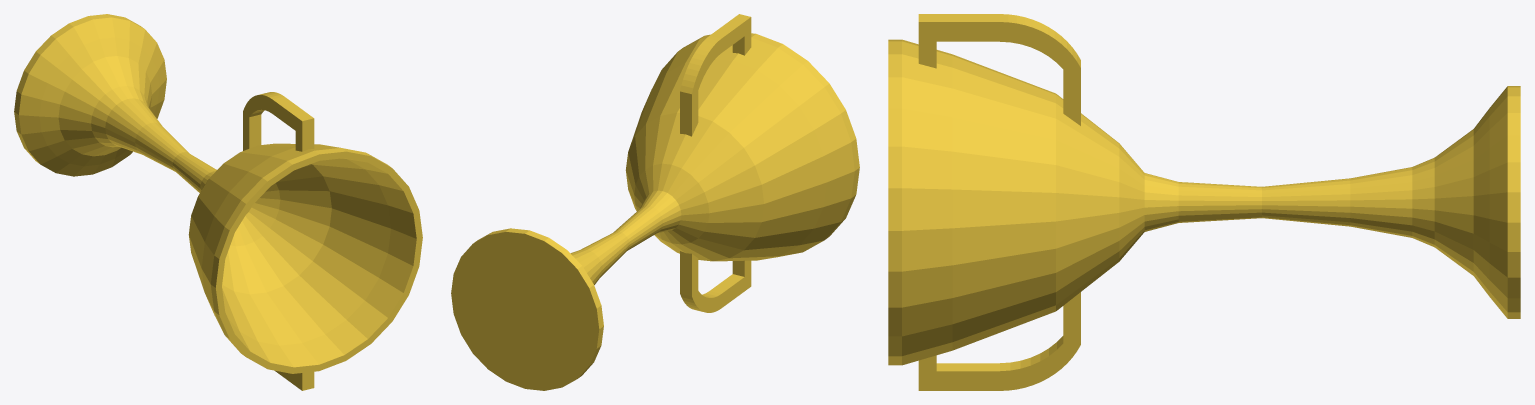
3 views of the same model, side by side, from view 1: azimuth 30°, elevation 25°; view 2: azimuth 150°, elevation 25°; view 3: azimuth 270°, elevation 25° (orthographic). The views are drawn at different scales.
Visible parts, largest first — view 1: trophy; view 2: trophy; view 3: trophy.
Part boxes in pixels (x1,y1,x2,y2): trophy: (14, 14, 422, 390); trophy: (451, 14, 859, 390); trophy: (888, 14, 1520, 390).
Bounding box in the file's own units: 90.14 × 112 × 174.
